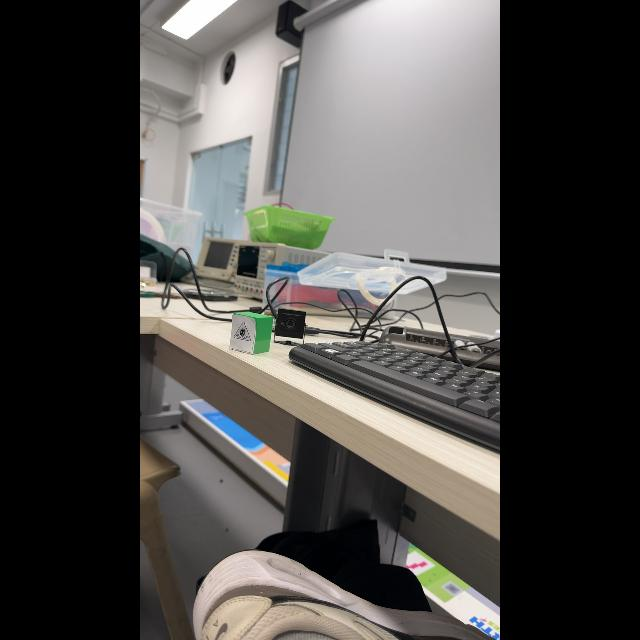Tsunami: (234, 322, 251, 341)
